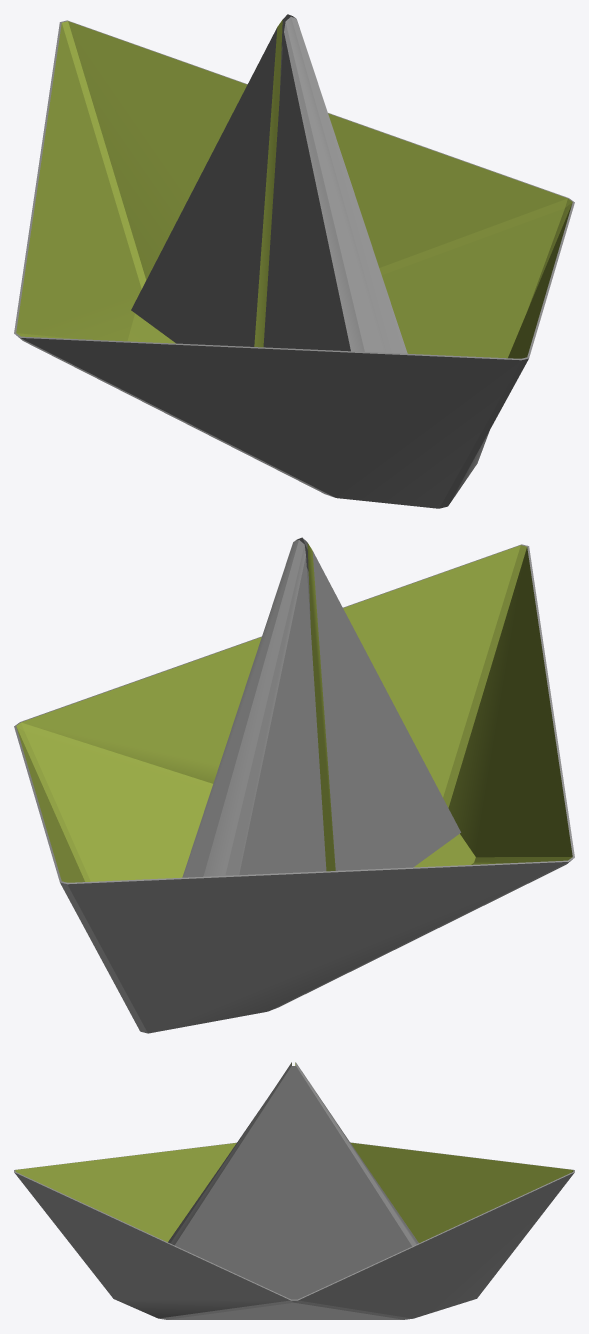
Rendered from Prop_Skypad_PaperBoat.FBX.
The picture shows the model from 3 angles, top to bottom: view 1: azimuth 30°, elevation 25°; view 2: azimuth 150°, elevation 25°; view 3: azimuth 270°, elevation 25°; orthographic projection. The views are drawn at different scales.
Visible parts, largest first — view 1: Object002; view 2: Object002; view 3: Object002.
Boxes of the visible parts, x1=… form: Object002: x1=14, y1=14, x2=574, y2=508; Object002: x1=14, y1=537, x2=574, y2=1033; Object002: x1=14, y1=1062, x2=574, y2=1319.
Bounding box in the file's own units: 35.82 × 23.74 × 51.63.
